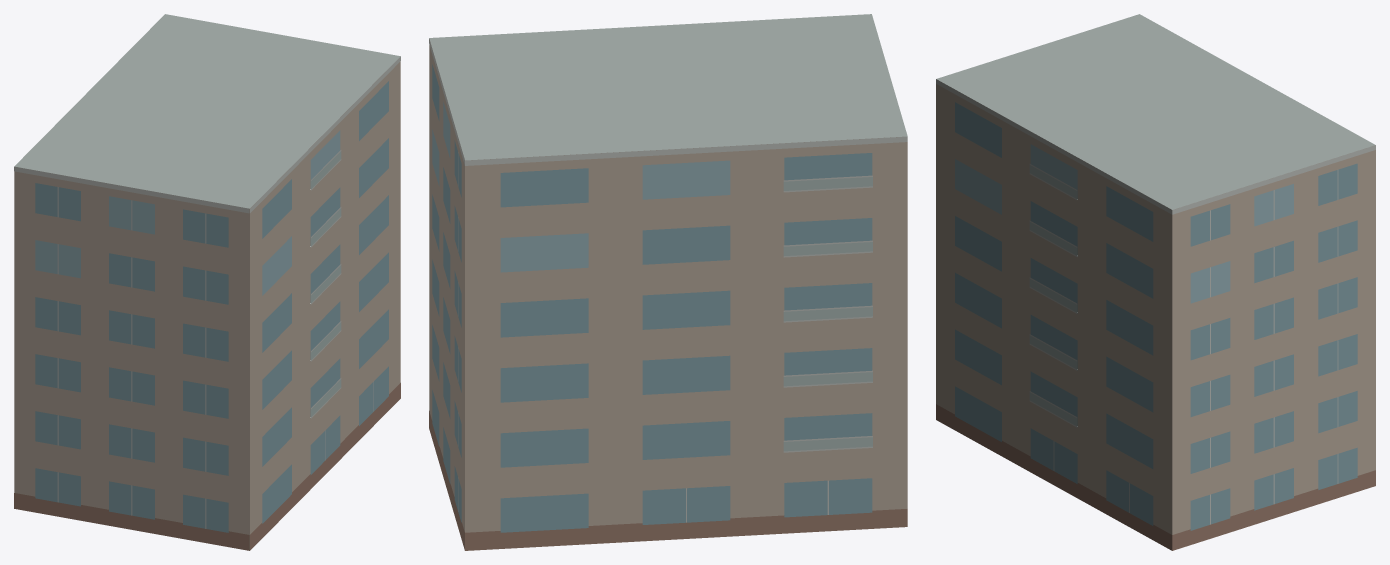
The model's file is survey-upis-32745090.glb.
3 renders of one model, left to right at view 1: azimuth 30°, elevation 25°; view 2: azimuth 150°, elevation 25°; view 3: azimuth 270°, elevation 25°, orthographic. The views are drawn at different scales.
Parts seen in each view (by area): view 1: survey-upis-32745090.tmp; view 2: survey-upis-32745090.tmp; view 3: survey-upis-32745090.tmp.
Part boxes in pixels (x1=…): survey-upis-32745090.tmp: x1=14, y1=14, x2=400, y2=550; survey-upis-32745090.tmp: x1=429, y1=14, x2=907, y2=550; survey-upis-32745090.tmp: x1=936, y1=14, x2=1375, y2=550.
Size of the model in its own units: 21.27 by 17.25 by 20.17.
